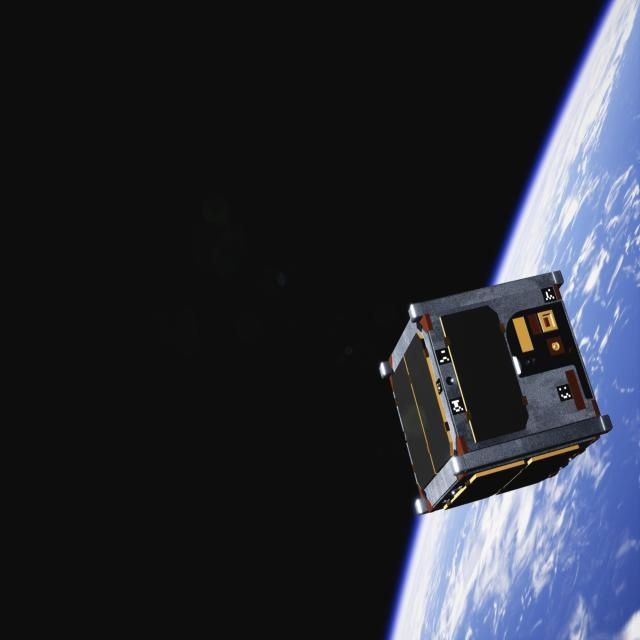medium_debris: (375, 271, 617, 518)
